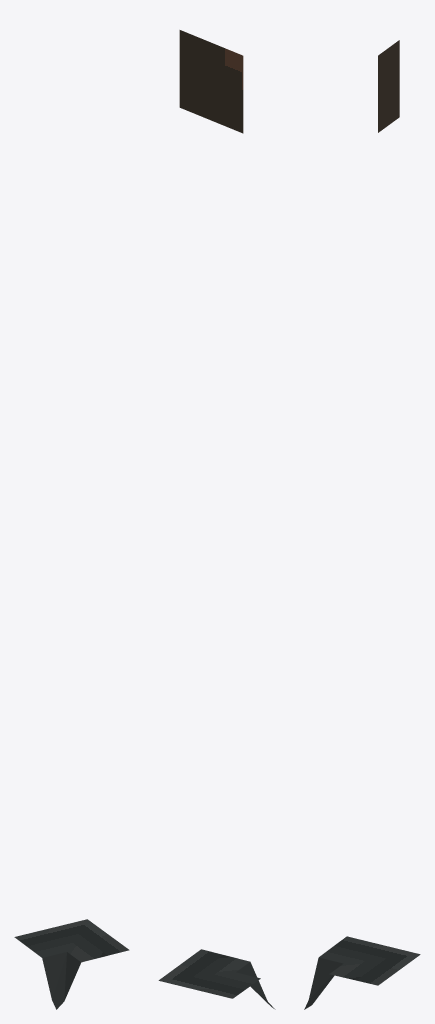
3 views of the same model, side by side, from view 1: azimuth 30°, elevation 25°; view 2: azimuth 150°, elevation 25°; view 3: azimuth 330°, elevation 25° (orthographic).
Size of the model in its own units: 0.5 by 6.27 by 0.5.
2 materials, 2 textured.
